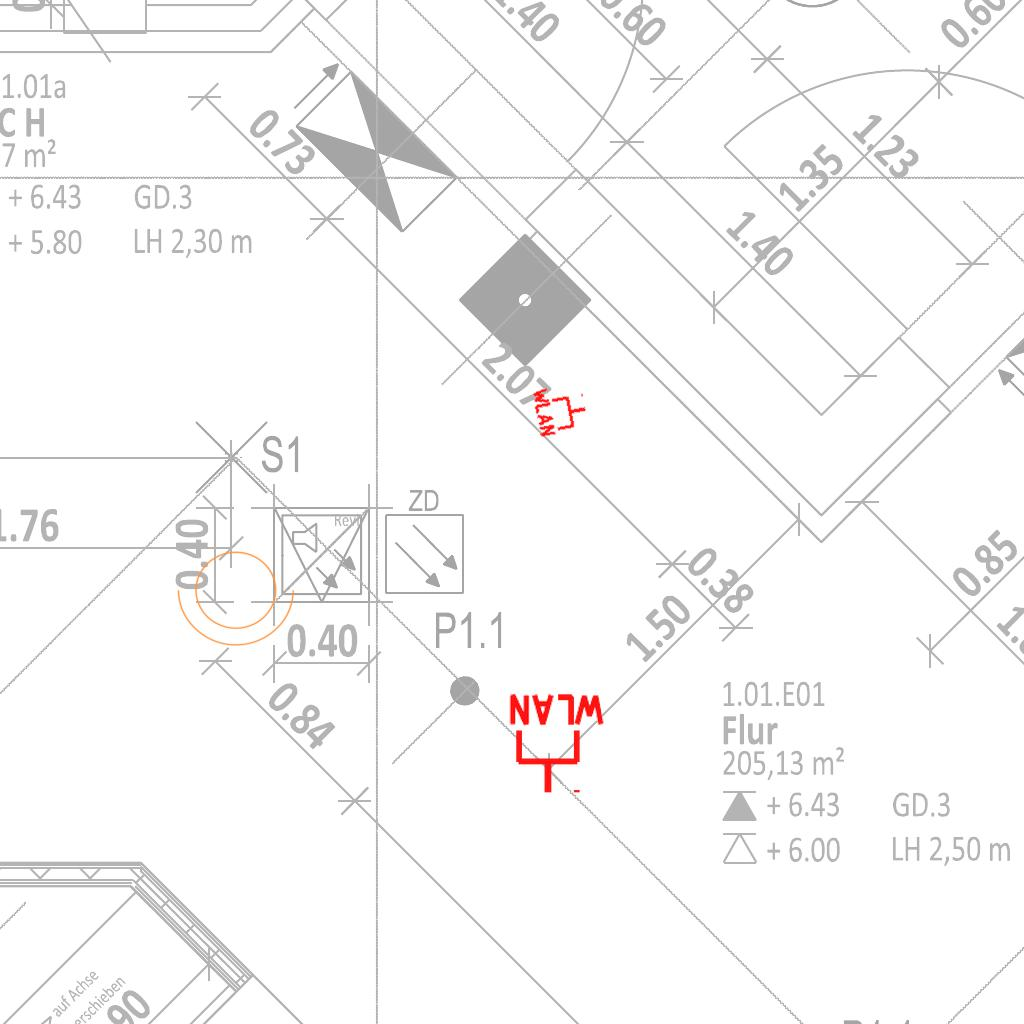Scheinwerfer_fuer_Alarmbeleuchtung: (173, 539, 305, 651)
WLAN: (505, 692, 609, 797), (530, 378, 592, 440)
